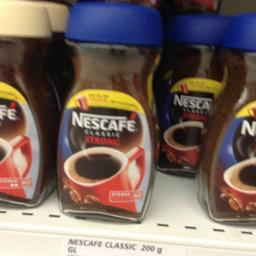coffee: (52, 4, 158, 220), (198, 16, 255, 223), (0, 0, 55, 208)
